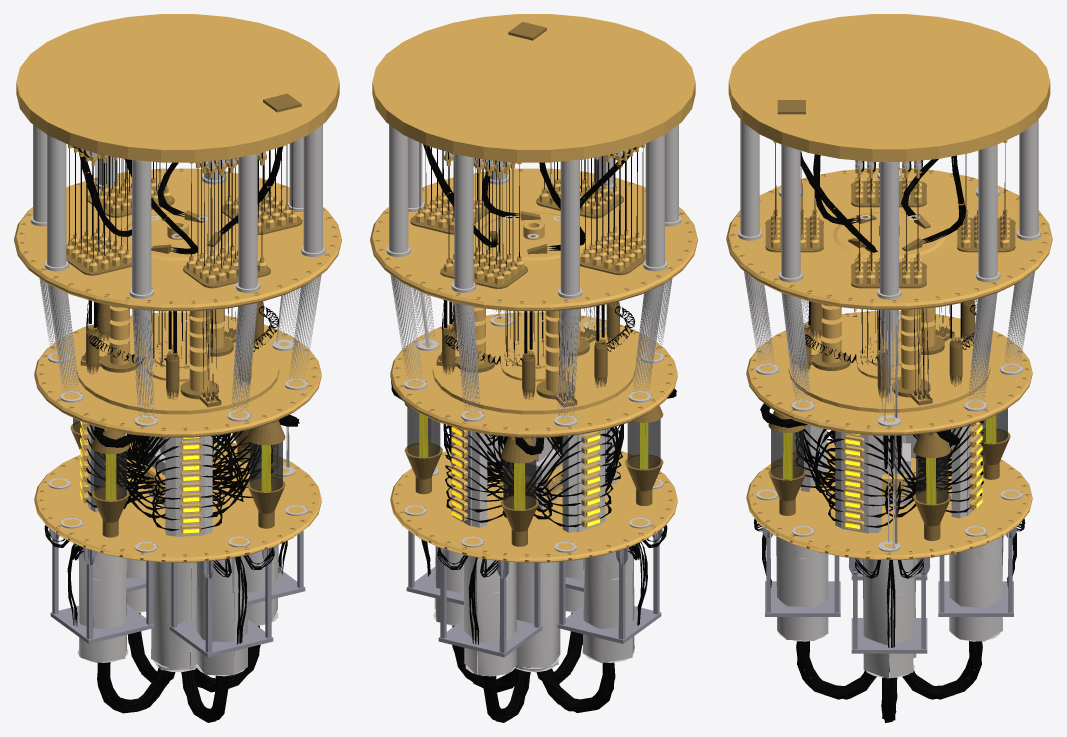
File: quantum_computer.glb
3 renders of one model, left to right at view 1: azimuth 30°, elevation 25°; view 2: azimuth 150°, elevation 25°; view 3: azimuth 270°, elevation 25°, orthographic.
Visible parts, largest first — view 1: Pc_2; view 2: Pc_2; view 3: Pc_2.
Part boxes in pixels (box(x1,y1,x2,y2)): Pc_2: box(14, 14, 341, 722); Pc_2: box(370, 14, 697, 722); Pc_2: box(726, 14, 1052, 722).
Size of the model in its own units: 1.77 by 3.73 by 1.78.
